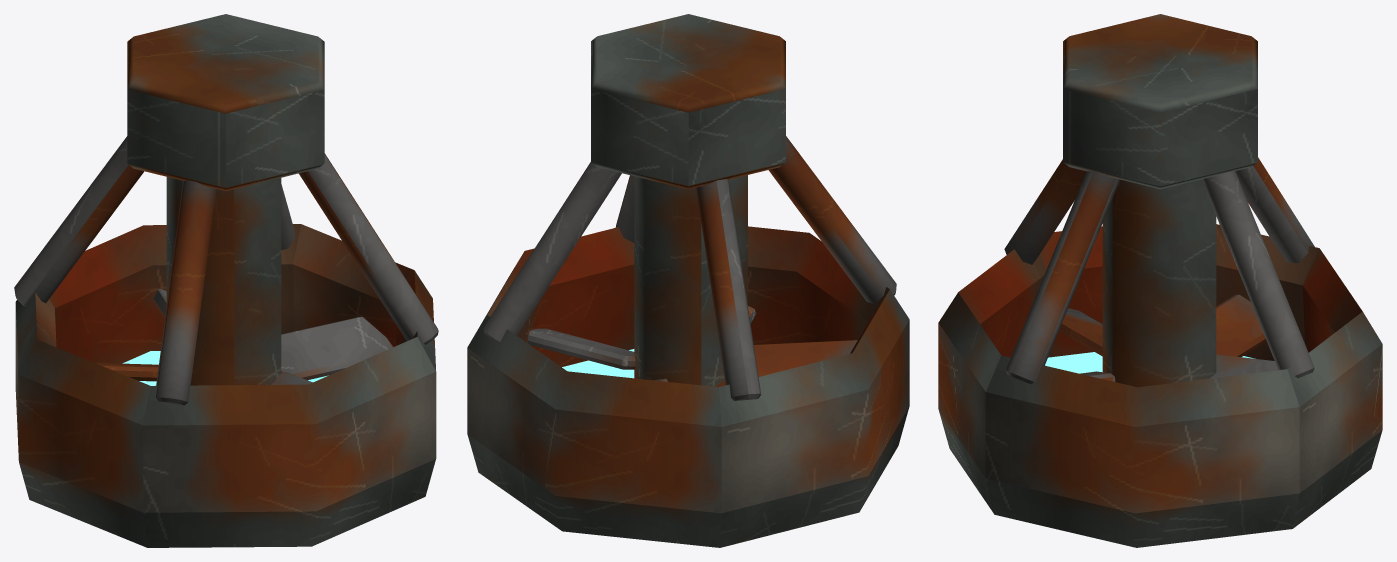
File: R4X_HoverEngine_LOD1.glb
The picture shows the model from 3 angles, left to right: view 1: azimuth 30°, elevation 25°; view 2: azimuth 150°, elevation 25°; view 3: azimuth 270°, elevation 25°; orthographic projection.
Parts seen in each view (by area): view 1: R4X_HoverEngine_LOD1; view 2: R4X_HoverEngine_LOD1; view 3: R4X_HoverEngine_LOD1.
Boxes of the visible parts, x1=… form: R4X_HoverEngine_LOD1: x1=14, y1=14, x2=438, y2=547; R4X_HoverEngine_LOD1: x1=467, y1=14, x2=909, y2=547; R4X_HoverEngine_LOD1: x1=938, y1=14, x2=1382, y2=547.
Bounding box in the file's own units: 0.5127 × 0.52 × 0.5127.
5 materials, 4 textured.
